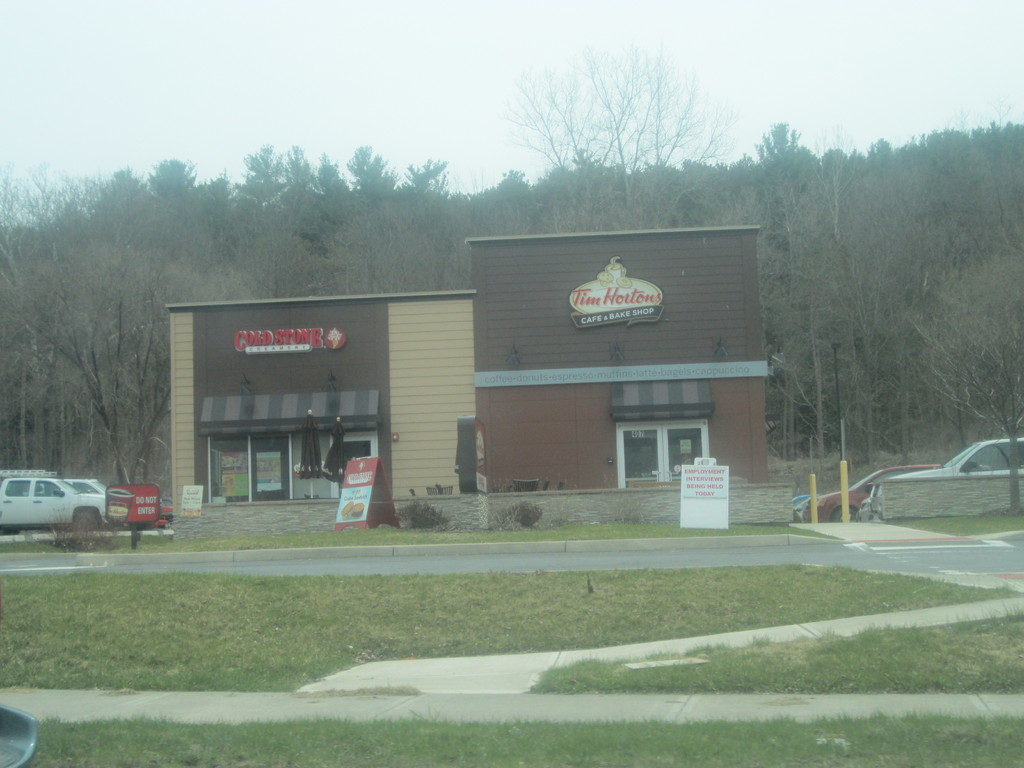car: (797, 443, 943, 532), (1, 459, 144, 540), (897, 433, 1024, 496)
